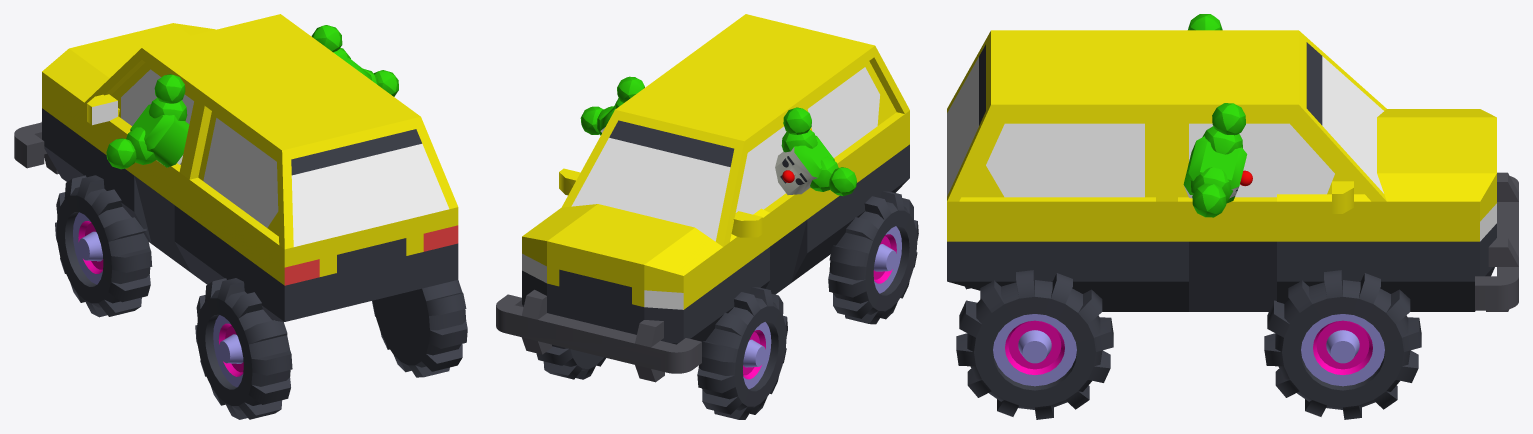
File: clown_car.glb
The picture shows the model from 3 angles, left to right: view 1: azimuth 30°, elevation 25°; view 2: azimuth 150°, elevation 25°; view 3: azimuth 270°, elevation 25°; orthographic projection. The views are drawn at different scales.
Visible parts, largest first — view 1: mergedBlocks(Clone); view 2: mergedBlocks(Clone); view 3: mergedBlocks(Clone).
Boxes of the visible parts, x1,y1,x2,y2 form: mergedBlocks(Clone): (14,14,467,419); mergedBlocks(Clone): (496,14,918,419); mergedBlocks(Clone): (947,14,1518,419).
Bounding box in the file's own units: 1.67 × 1.54 × 2.6.
